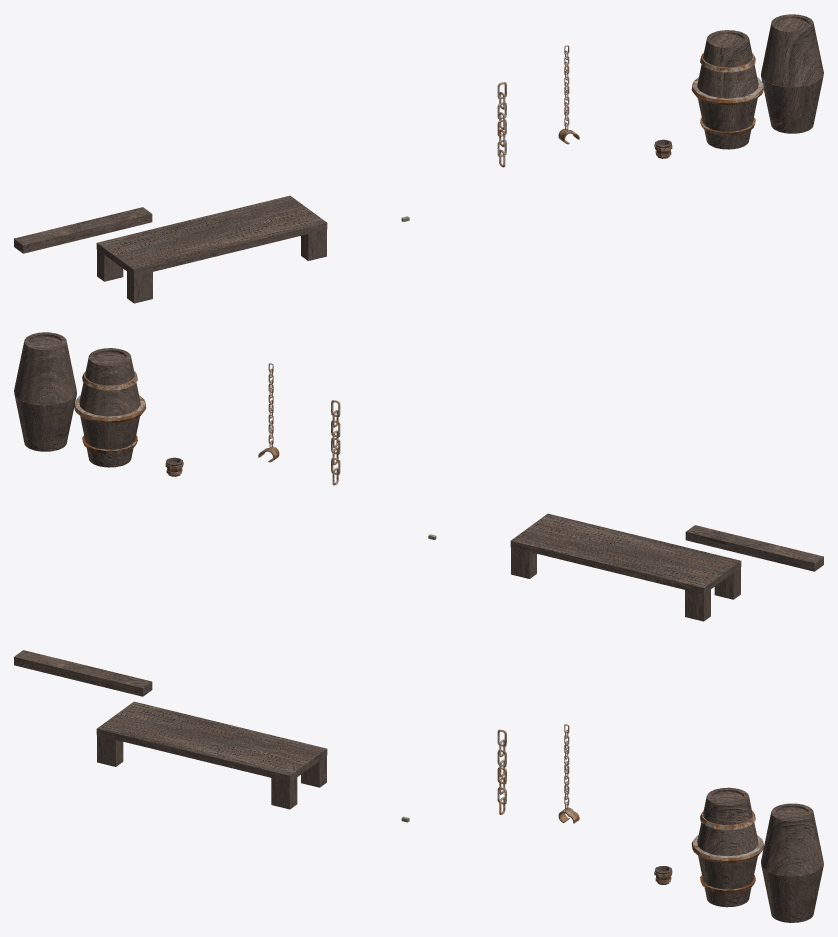
The model's file is Fractured Barrel.glb.
3 renders of one model, top to bottom at view 1: azimuth 30°, elevation 25°; view 2: azimuth 150°, elevation 25°; view 3: azimuth 330°, elevation 25°, orthographic.
Parts seen in each view (by area): view 1: Table, Barrel, Wood Bar, Barrel Metal Parts, Chains, Chains With Braes; view 2: Table, Barrel, Wood Bar, Barrel Metal Parts, Chains, Chains With Braes, Barrel_cell.033; view 3: Table, Barrel, Wood Bar, Barrel Metal Parts, Chains, Chains With Braes.
Part boxes in pixels (<box>): Table: <box>96,195,327,303</box>; Barrel: <box>697,30,758,149</box>; Wood Bar: <box>14,207,152,253</box>; Barrel Metal Parts: <box>691,53,764,135</box>; Chains: <box>497,82,506,167</box>; Chains With Braes: <box>558,45,579,144</box>; Table: <box>510,513,741,621</box>; Barrel: <box>79,348,140,467</box>; Wood Bar: <box>685,525,823,571</box>; Barrel Metal Parts: <box>73,371,146,453</box>; Chains: <box>331,400,340,485</box>; Chains With Braes: <box>258,363,279,462</box>; Barrel_cell.033: <box>46,343,71,377</box>; Table: <box>96,701,327,809</box>; Barrel: <box>697,787,758,907</box>; Wood Bar: <box>14,650,152,696</box>; Barrel Metal Parts: <box>691,810,763,893</box>; Chains: <box>497,729,506,814</box>; Chains With Braes: <box>558,724,579,823</box>.
Bounding box in the file's own units: 24.85 × 4.04 × 2.
Materials: 5 (5 with a texture image).
